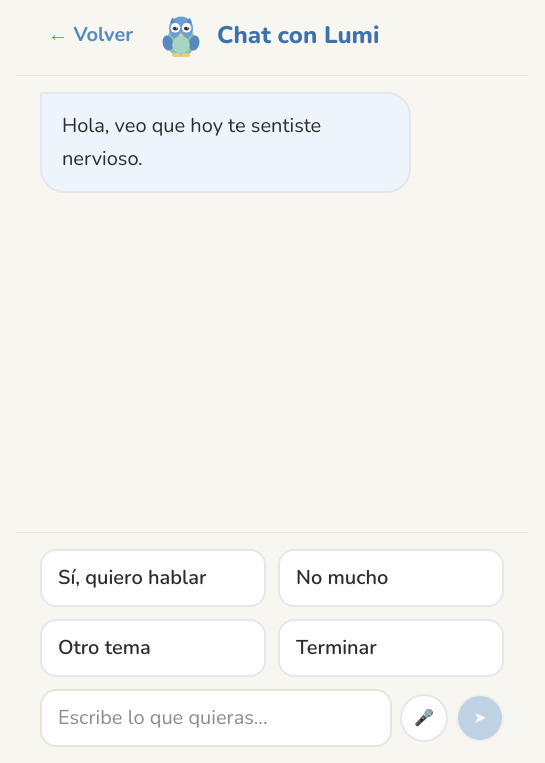
Test: ChatIA › al recibir ended:true muestra pantalla de cierre con botón para volver
This screenshot has width=545, height=763.
Step 1. Click the button "Terminar" → (391, 648), box [278, 619, 504, 677]
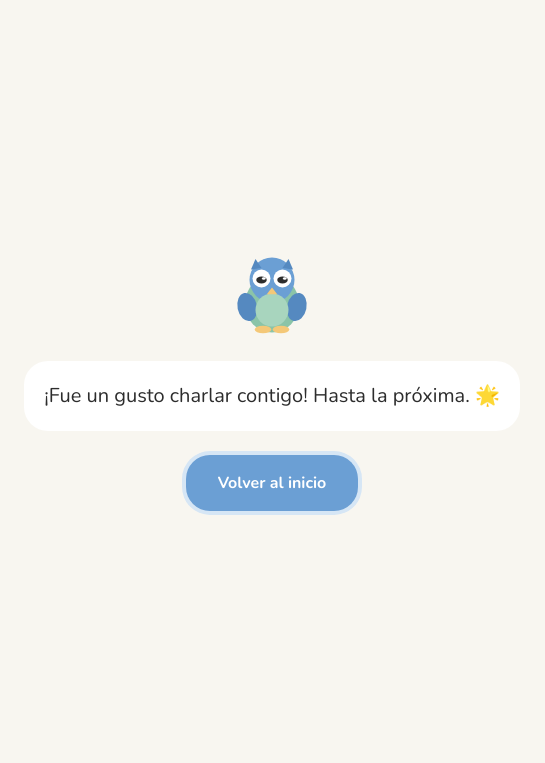
Expected: the text "¡Fue un gusto charlar contigo! Hasta la próxima. 🌟" is shown, [44, 381, 500, 411]
Expected: the button "Volver al inicio" is shown, [186, 455, 358, 511]
